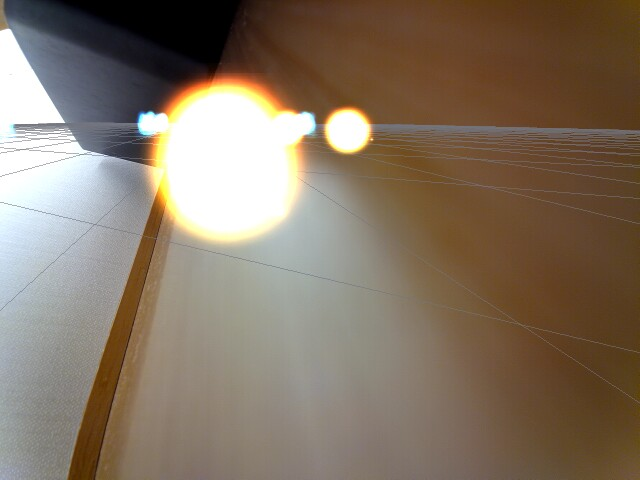firebig: (156, 69, 282, 251)
